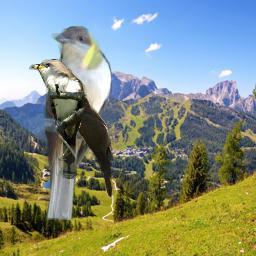Cuckoo: (41, 26, 112, 220), (29, 59, 87, 179), (63, 93, 116, 199)
